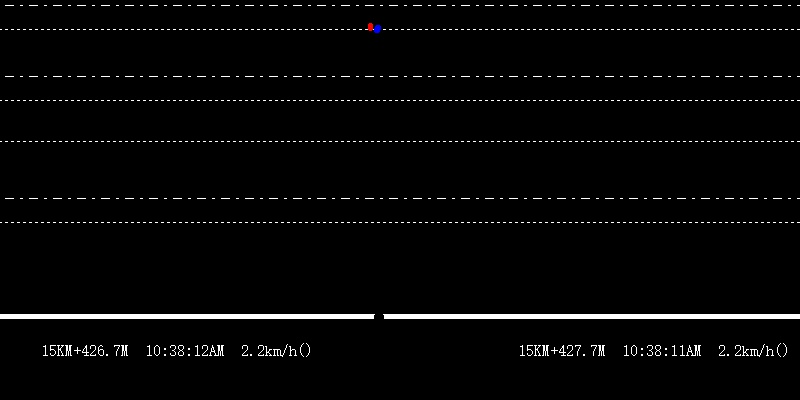face_1: (367, 20, 374, 33), (374, 24, 381, 34)
